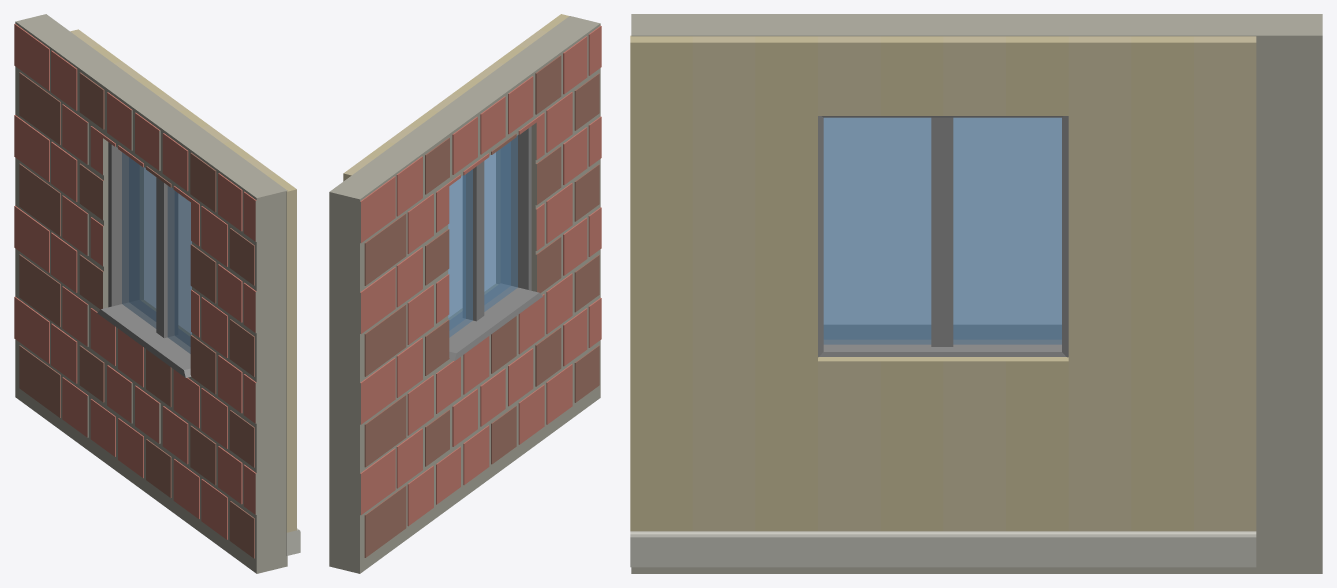
The model's file is WallWindowCombo_1.fbx.
The picture shows the model from 3 angles, left to right: view 1: azimuth 30°, elevation 25°; view 2: azimuth 150°, elevation 25°; view 3: azimuth 270°, elevation 25°; orthographic projection. The views are drawn at different scales.
Visible parts, largest first — view 1: ExteriorWallWindow_1, Window_1, InteriorWallWindow_1; view 2: ExteriorWallWindow_1, Window_1, InteriorWallWindow_1; view 3: InteriorWallWindow_1, Window_1, ExteriorWallWindow_1.
Boxes of the visible parts, left/top/right/bottom form: ExteriorWallWindow_1: left=14, top=14, right=287, bottom=573; Window_1: left=97, top=142, right=191, bottom=377; InteriorWallWindow_1: left=70, top=29, right=300, bottom=555; ExteriorWallWindow_1: left=329, top=16, right=601, bottom=573; Window_1: left=448, top=126, right=542, bottom=360; InteriorWallWindow_1: left=343, top=14, right=568, bottom=319; InteriorWallWindow_1: left=630, top=35, right=1256, bottom=567; Window_1: left=818, top=116, right=1068, bottom=357; ExteriorWallWindow_1: left=631, top=14, right=1322, bottom=573.
Bounding box in the file's own units: 51.33 × 367 × 428.
